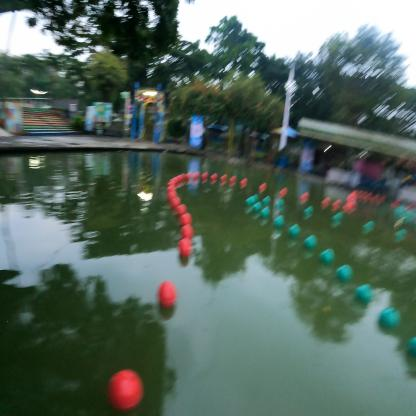green_buoy: (380, 305, 400, 337), (355, 280, 373, 308), (336, 264, 354, 288), (319, 247, 335, 267), (304, 234, 318, 252), (275, 214, 285, 232), (290, 224, 300, 242), (260, 208, 269, 224), (246, 195, 253, 209), (253, 203, 261, 215)
red_buoy: (108, 367, 144, 410), (158, 280, 177, 312), (180, 225, 193, 244), (178, 240, 190, 260), (180, 212, 191, 229), (175, 204, 187, 219), (171, 199, 181, 211), (167, 191, 176, 203)
